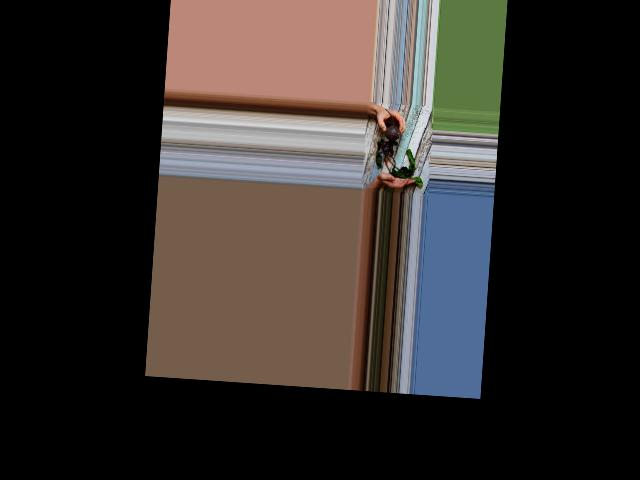beet: (374, 108, 428, 187)
